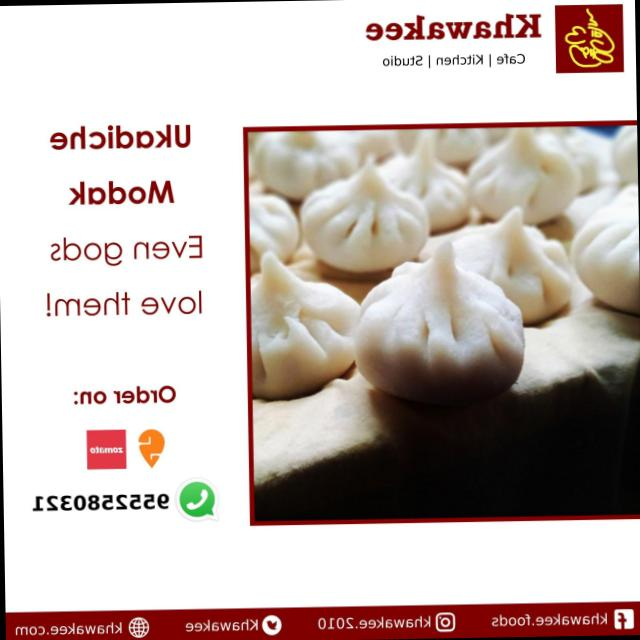modak: (258, 130, 640, 387)
